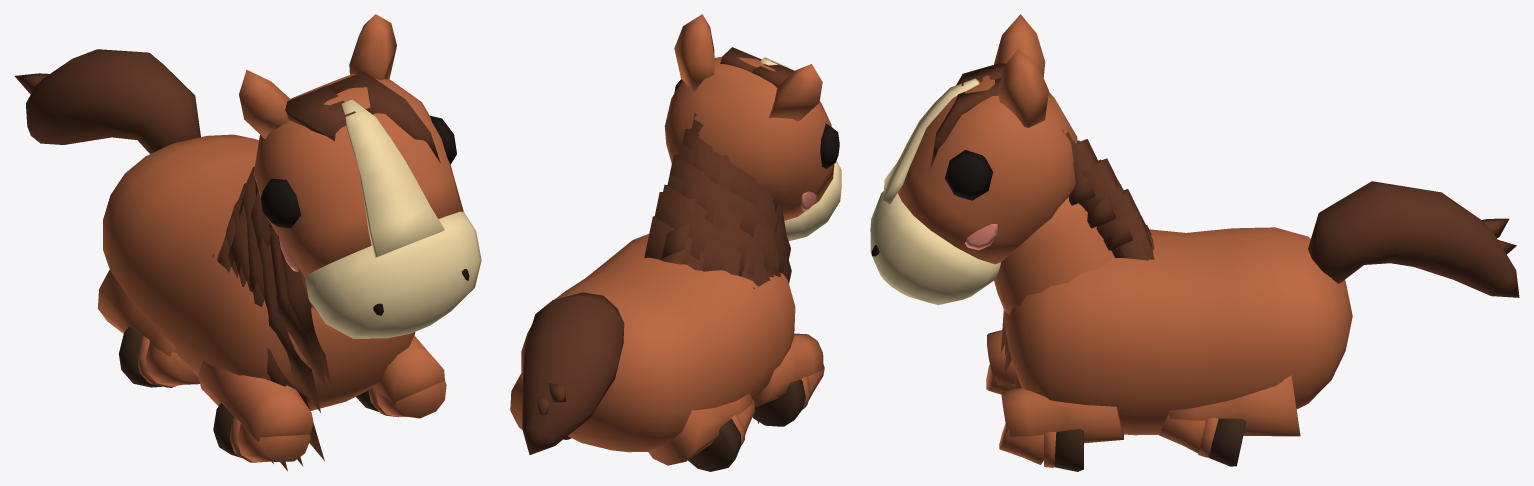
File: horse-rest.glb
3 views of the same model, side by side, from view 1: azimuth 30°, elevation 25°; view 2: azimuth 150°, elevation 25°; view 3: azimuth 270°, elevation 25° (orthographic). The views are drawn at different scales.
Visible parts, largest first — view 1: body, head, tail, muzzle, mane, blaze, leg_fr_upper, forelock, leg_fl_upper, ear_r, leg_hr_upper, eyes (+6 smaller); view 2: body, mane, head, tail, leg_hr_upper, ear_l, leg_fr_upper, ear_r, muzzle, leg_hr_hoof, leg_fr_hoof, forelock (+2 smaller); view 3: body, head, tail, muzzle, neck, mane, leg_fl_upper, leg_hl_upper, ear_l, blaze, eyes, forelock (+6 smaller).
Part boxes in pixels (x1=…): body: x1=103, y1=134, x2=415, y2=410; head: x1=253, y1=73, x2=463, y2=277; tail: x1=14, y1=49, x2=200, y2=153; muzzle: x1=305, y1=211, x2=481, y2=338; mane: x1=212, y1=166, x2=331, y2=471; blaze: x1=341, y1=99, x2=444, y2=257; leg_fr_upper: x1=198, y1=360, x2=313, y2=441; forelock: x1=285, y1=71, x2=440, y2=162; leg_fl_upper: x1=373, y1=335, x2=444, y2=405; ear_r: x1=239, y1=70, x2=290, y2=138; leg_hr_upper: x1=97, y1=269, x2=176, y2=356; eyes: x1=261, y1=115, x2=469, y2=315; body: x1=521, y1=234, x2=795, y2=452; mane: x1=644, y1=113, x2=791, y2=423; head: x1=664, y1=56, x2=834, y2=220; tail: x1=522, y1=292, x2=624, y2=454; leg_hr_upper: x1=648, y1=393, x2=752, y2=465; ear_l: x1=674, y1=14, x2=714, y2=91; leg_fr_upper: x1=753, y1=333, x2=823, y2=406; ear_r: x1=769, y1=64, x2=822, y2=121; muzzle: x1=784, y1=161, x2=841, y2=240; leg_hr_hoof: x1=688, y1=419, x2=741, y2=471; leg_fr_hoof: x1=753, y1=379, x2=805, y2=426; forelock: x1=720, y1=47, x2=794, y2=87; body: x1=1003, y1=227, x2=1352, y2=435; head: x1=898, y1=75, x2=1077, y2=264; tail: x1=1308, y1=181, x2=1519, y2=297; muzzle: x1=870, y1=191, x2=1000, y2=304; neck: x1=994, y1=197, x2=1114, y2=314; mane: x1=1000, y1=129, x2=1154, y2=389; leg_fl_upper: x1=1001, y1=387, x2=1123, y2=443; leg_hl_upper: x1=1168, y1=375, x2=1300, y2=436; ear_l: x1=997, y1=49, x2=1048, y2=127; blaze: x1=883, y1=78, x2=979, y2=204; eyes: x1=871, y1=150, x2=992, y2=256; forelock: x1=930, y1=63, x2=1005, y2=169.
Bounding box in the file's own units: 1.06 × 1.97 × 2.76.
